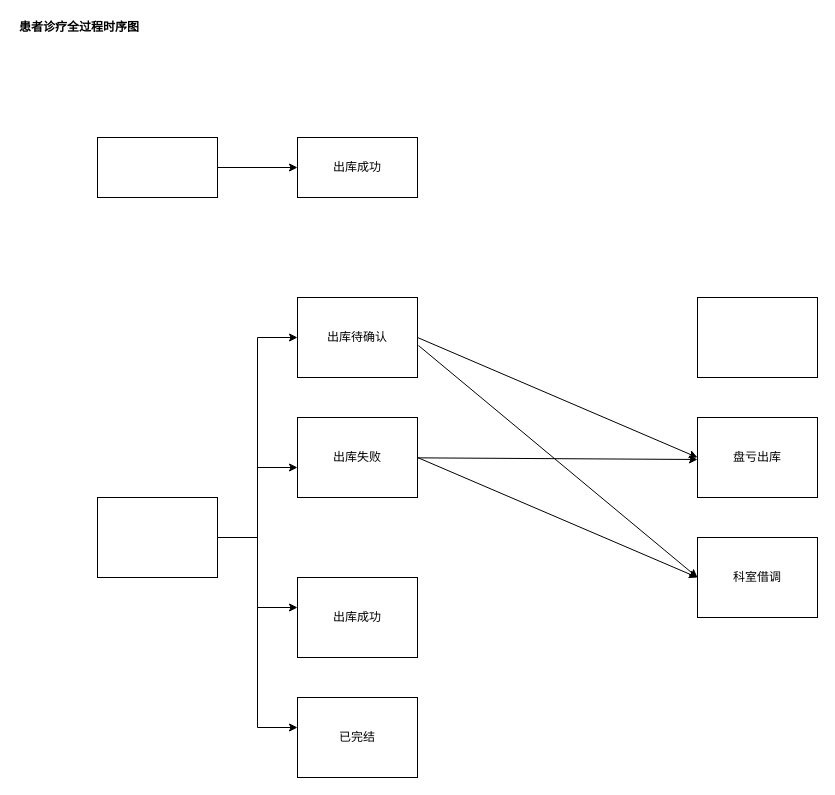
The diagram is 835 pixels wide and 795 high, and some of its shapes have lost their labels. Here are the shapes that lost their labels. From the top down, the centre of each, then its label:
At (157,167): "患者取药出库".
At (757,337): "患者取药".
At (157,537): "出库状态".
